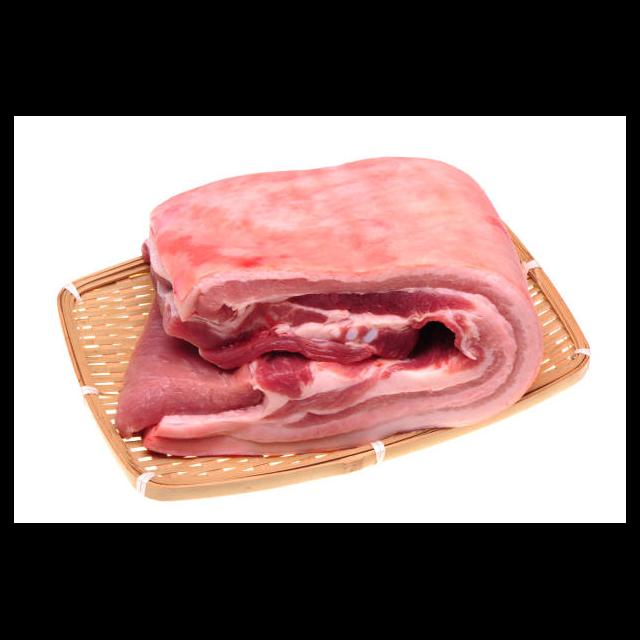pork: (126, 153, 542, 454)
